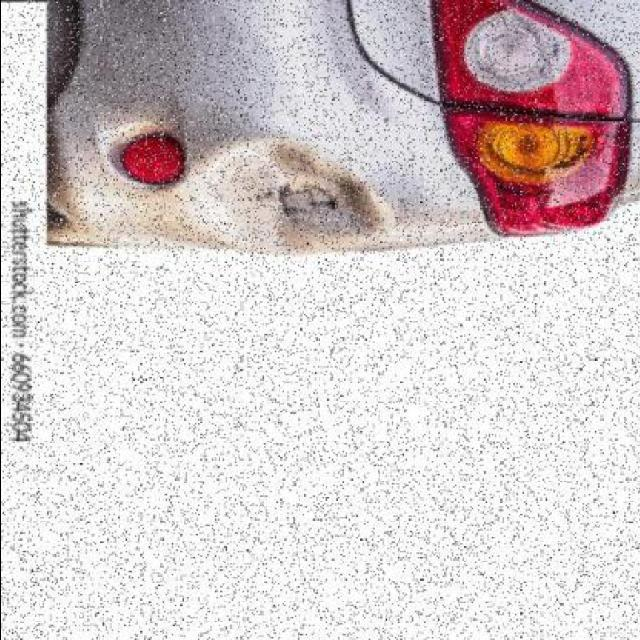rear-bumper-dent: (42, 0, 446, 266)
